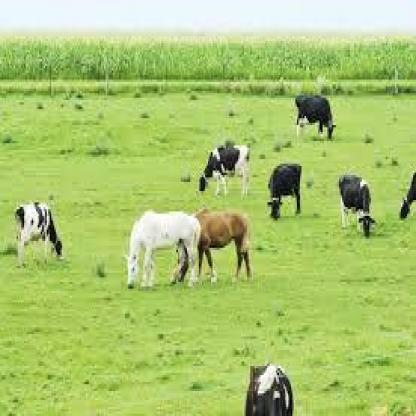cow: (14, 203, 64, 268), (198, 141, 254, 198), (336, 176, 378, 238), (245, 363, 293, 416), (294, 86, 338, 141), (267, 162, 303, 220), (399, 173, 416, 220)
